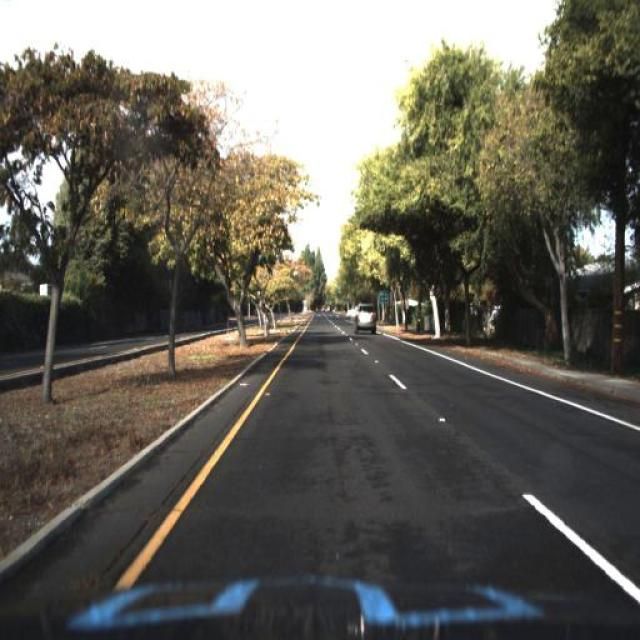car: (352, 301, 381, 337)
